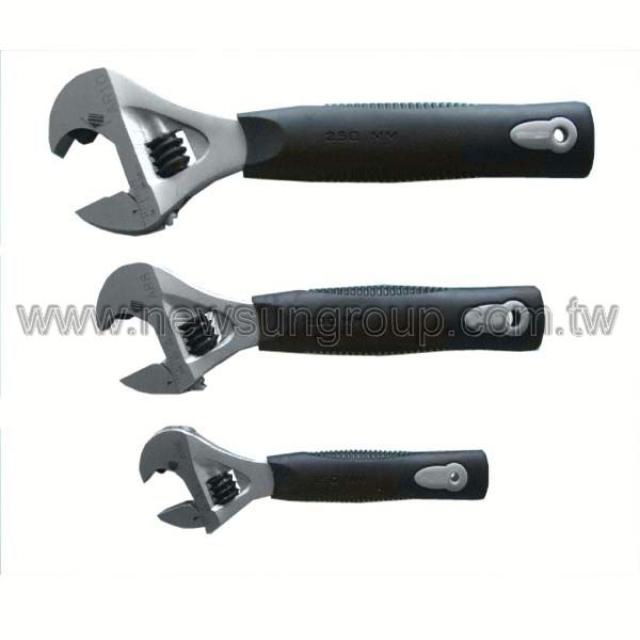wrench: (25, 38, 629, 248), (77, 252, 592, 408), (128, 422, 515, 547)
